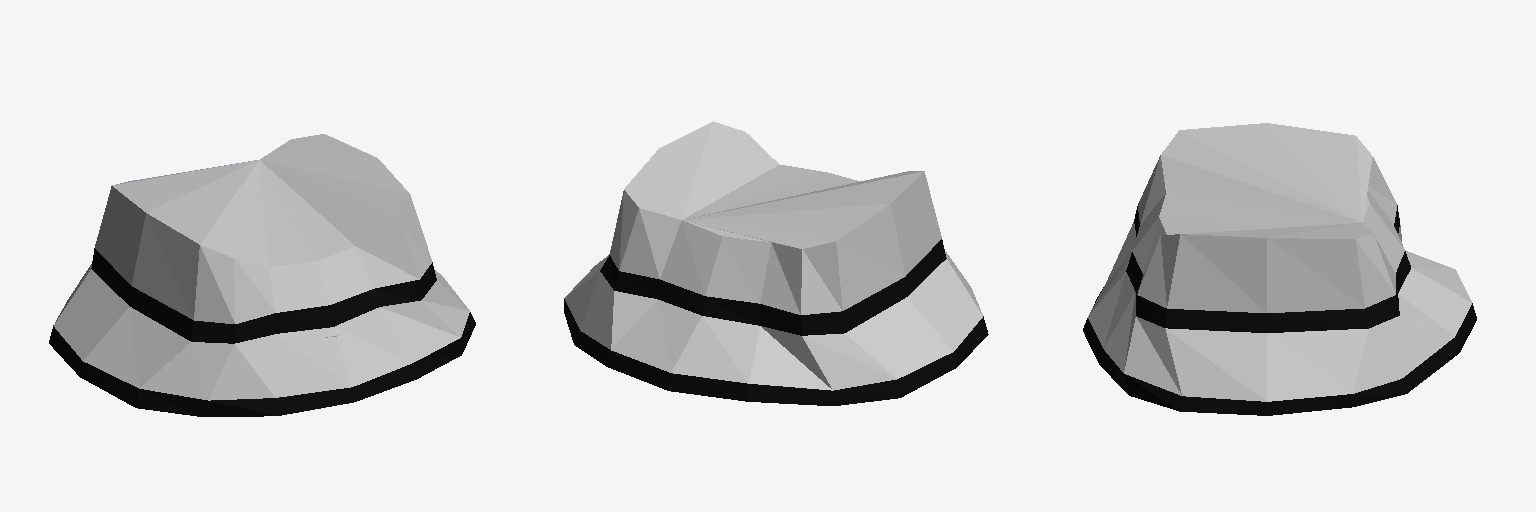
File: boonie_hat.obj
3 renders of one model, left to right at view 1: azimuth 30°, elevation 25°; view 2: azimuth 150°, elevation 25°; view 3: azimuth 270°, elevation 25°, orthographic.
Visible parts, largest first — view 1: Cylinder; view 2: Cylinder; view 3: Cylinder.
Part boxes in pixels (x1,y1,x2,y2): Cylinder: (49,134,475,416); Cylinder: (564,121,988,405); Cylinder: (1083,123,1476,415).
Bounding box in the file's own units: 0.776 × 0.3097 × 0.7269.